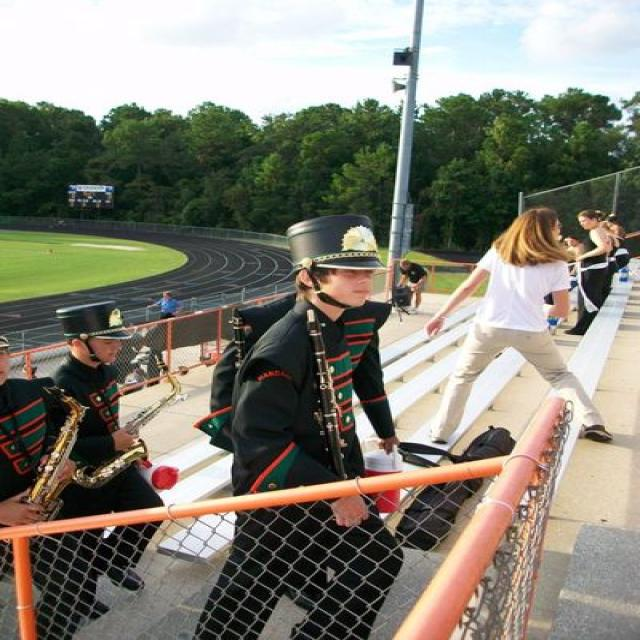clarinet: (301, 308, 350, 487), (228, 301, 253, 378)
saxophone: (68, 347, 186, 488), (0, 381, 90, 523)
